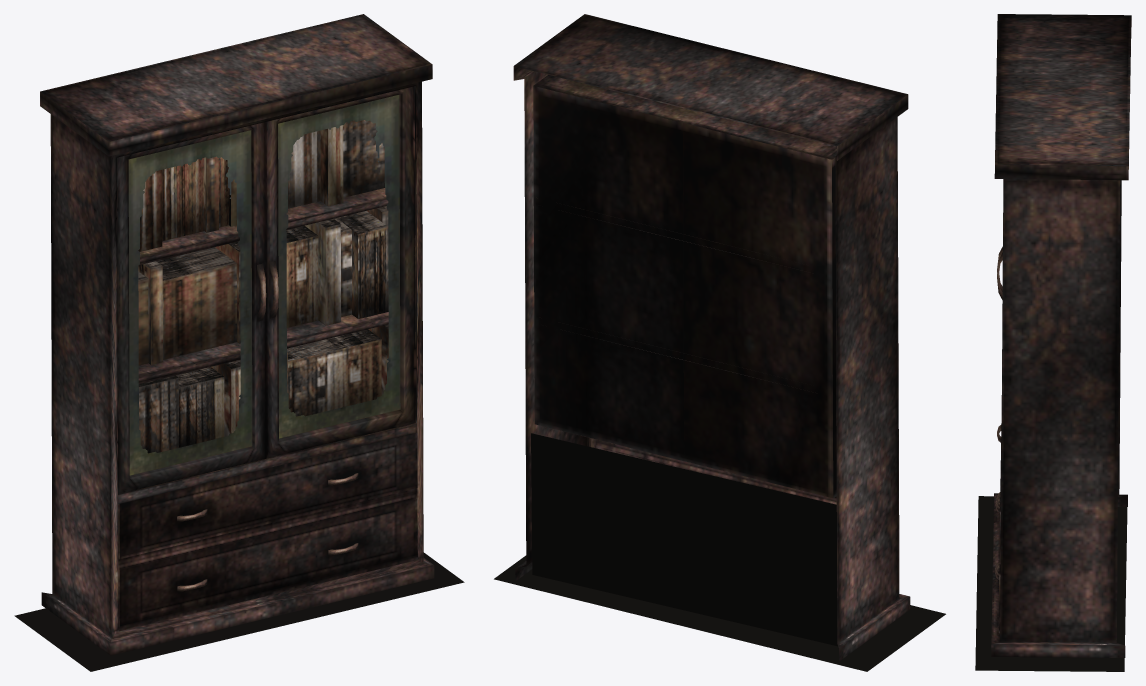
File: Mueble.obj
3 views of the same model, side by side, from view 1: azimuth 30°, elevation 25°; view 2: azimuth 150°, elevation 25°; view 3: azimuth 270°, elevation 25° (orthographic). The views are drawn at different scales.
Visible parts, largest first — view 1: pasted__polySurface503; view 2: pasted__polySurface503; view 3: pasted__polySurface503.
Part boxes in pixels (bbox=[...]): pasted__polySurface503: bbox=[14, 14, 464, 671]; pasted__polySurface503: bbox=[494, 14, 945, 671]; pasted__polySurface503: bbox=[975, 14, 1131, 671].
Size of the model in its own units: 1.66 by 2.19 by 0.6249.
5 materials, 5 textured.
